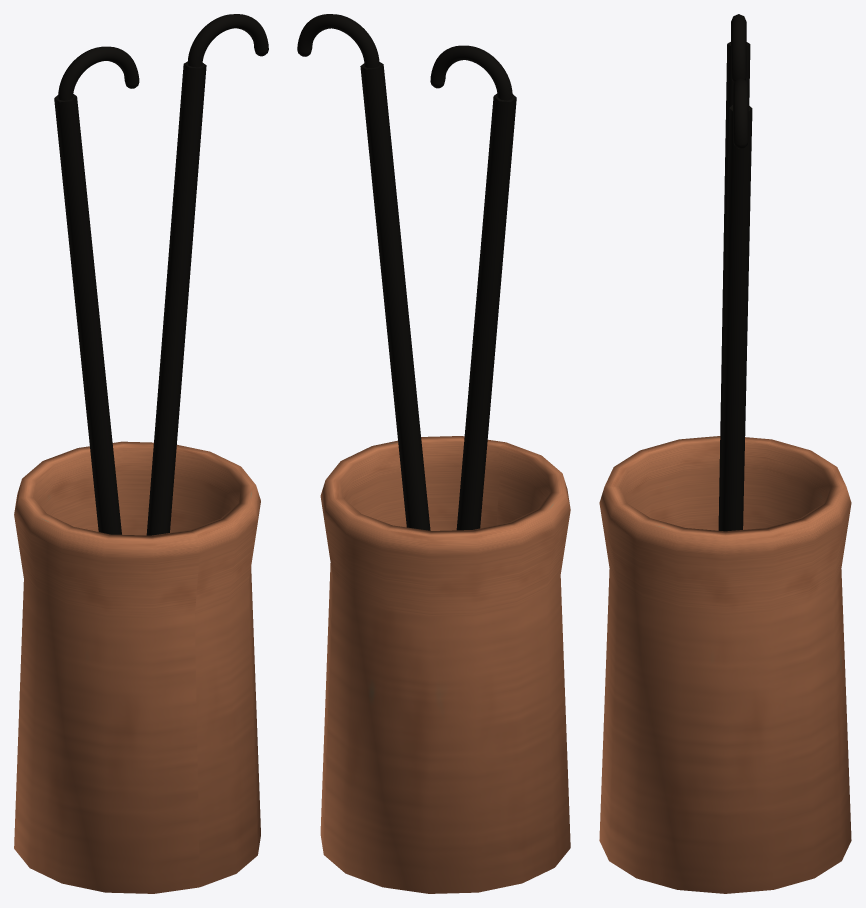
File: umbrellaStand.glb
3 renders of one model, left to right at view 1: azimuth 30°, elevation 25°; view 2: azimuth 150°, elevation 25°; view 3: azimuth 270°, elevation 25°, orthographic.
Visible parts, largest first — view 1: umbrellaStand; view 2: umbrellaStand; view 3: umbrellaStand.
Boxes of the visible parts, x1,y1,x2,y2 form: umbrellaStand: (14, 14, 268, 893); umbrellaStand: (297, 14, 570, 893); umbrellaStand: (599, 14, 851, 893).
Size of the model in its own units: 0.2965 by 0.9181 by 0.2601.
2 materials, 1 textured.
